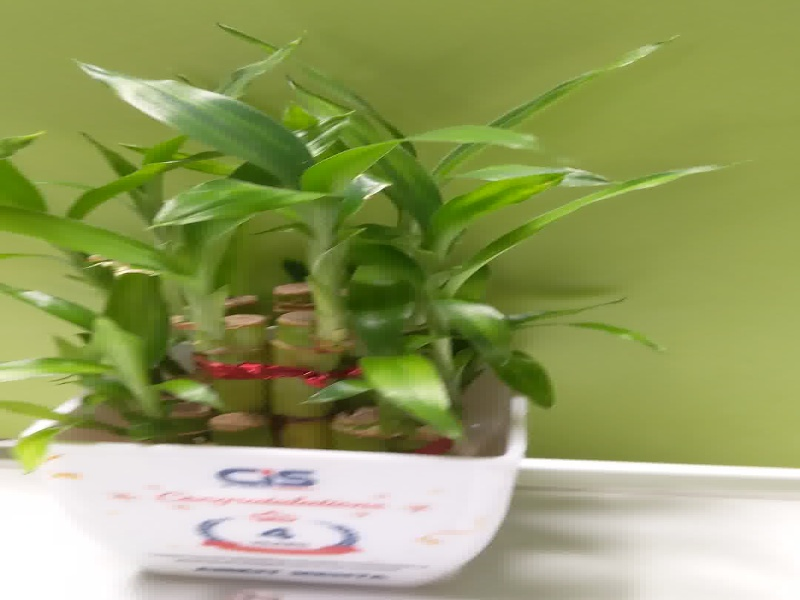bamboo: (3, 23, 742, 600)
